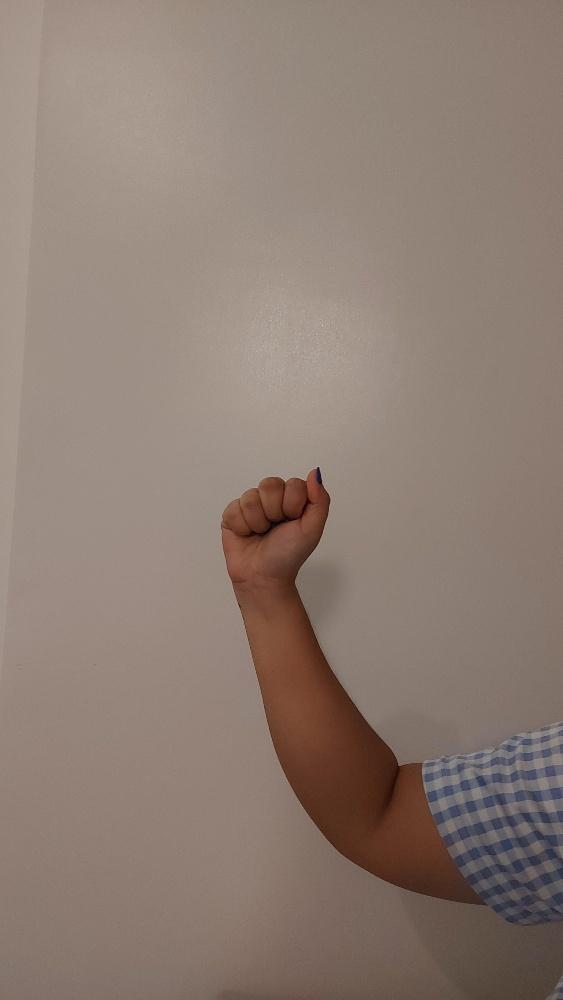a: (217, 464, 334, 580)
